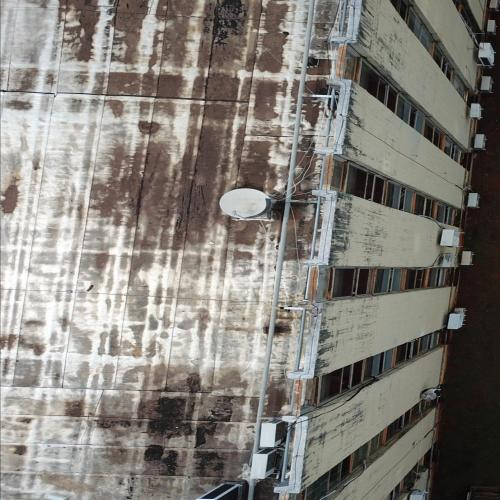conde: (248, 449, 282, 482), (195, 480, 245, 500), (255, 418, 288, 448)
